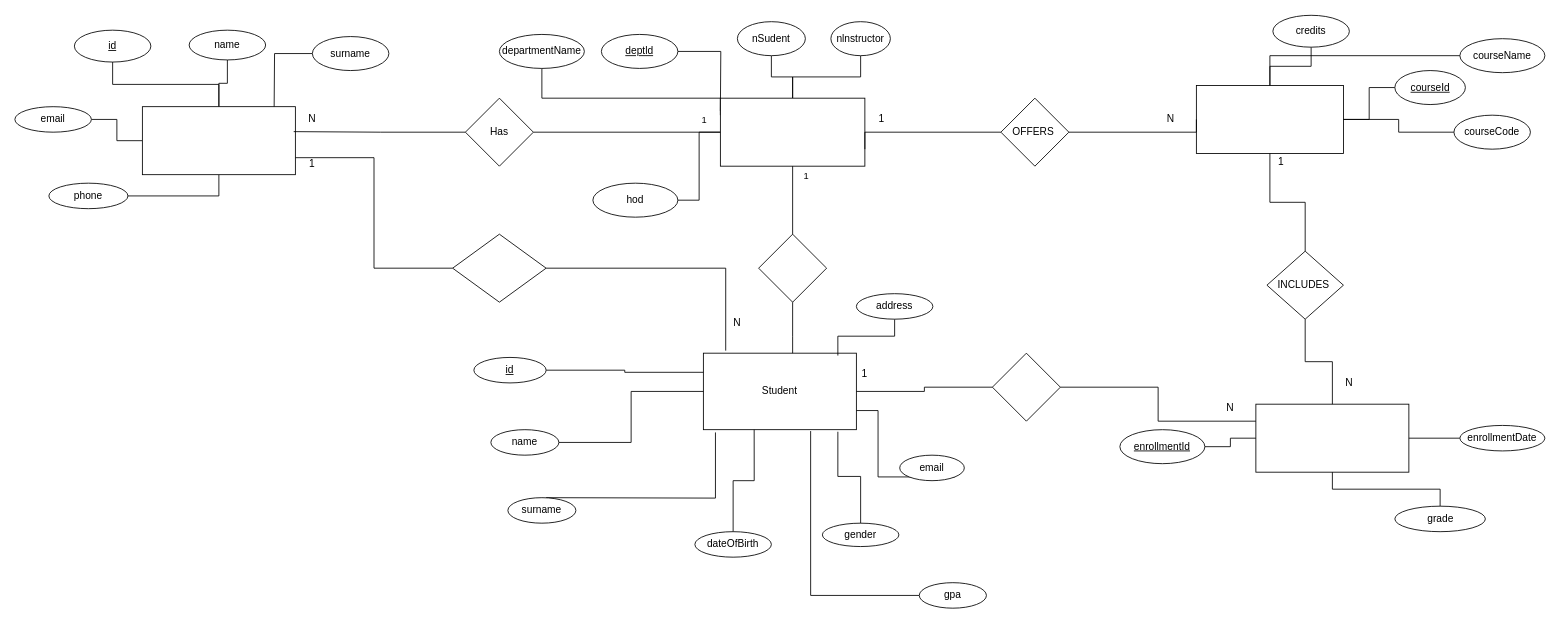
Image size: 1560x623. Some labels were removed from this diagram. Here are the shapes that lost their labels. From the top down, the centre of each, then its label:
the point at 792,131: Department
the point at 1269,119: Course
the point at 218,140: Lecturer
the point at 499,267: SUPERVISES
the point at 792,267: CONTAINS
the point at 1026,386: RECORDS
the point at 1332,437: Enrollment
